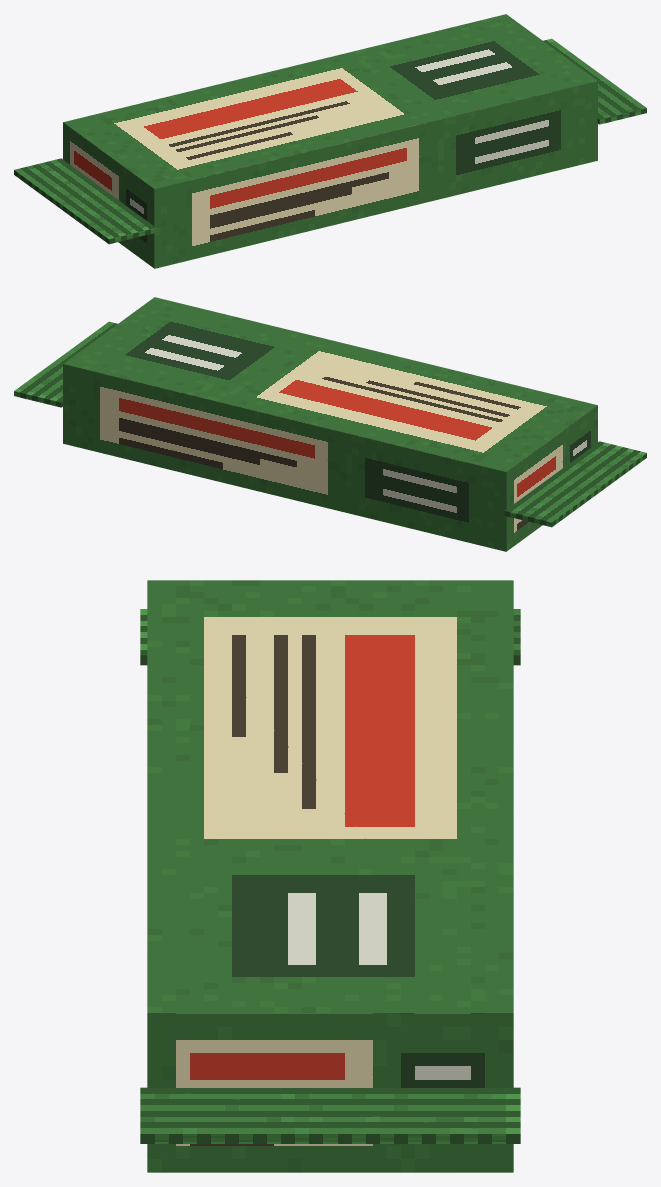
The model's file is protein_bar_evac.glb.
3 renders of one model, top to bottom at view 1: azimuth 30°, elevation 25°; view 2: azimuth 150°, elevation 25°; view 3: azimuth 270°, elevation 25°, orthographic. The views are drawn at different scales.
Visible parts, largest first — view 1: block_bar0, block_bar2, block_seal-1, block_bar5, block_seal1; view 2: block_bar0, block_bar3, block_seal-1, block_bar5, block_seal1; view 3: block_bar0, block_bar4, block_seal1, block_seal-1.
Part boxes in pixels (x1,y1,x2,y2): block_bar0: [63, 14, 597, 188]; block_bar2: [154, 81, 597, 268]; block_seal-1: [14, 158, 156, 244]; block_bar5: [63, 122, 154, 268]; block_seal1: [543, 38, 646, 124]; block_bar0: [63, 297, 597, 471]; block_bar3: [63, 364, 506, 551]; block_seal-1: [504, 441, 646, 527]; block_bar5: [506, 405, 597, 551]; block_seal1: [14, 321, 117, 407]; block_bar0: [147, 580, 513, 1013]; block_bar4: [147, 1013, 513, 1172]; block_seal1: [140, 1087, 520, 1143]; block_seal-1: [140, 609, 520, 665].
Size of the model in its own units: 0.17 by 0.0241 by 0.052.
Materials: 1 (1 with a texture image).
